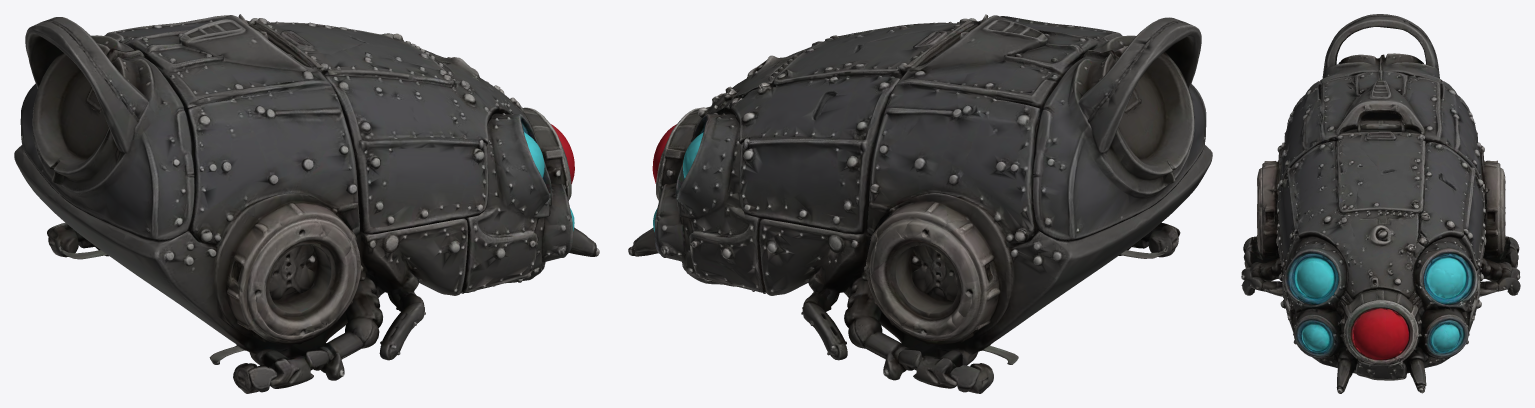
The model's file is head.glb.
3 views of the same model, side by side, from view 1: azimuth 30°, elevation 25°; view 2: azimuth 150°, elevation 25°; view 3: azimuth 270°, elevation 25° (orthographic). The views are drawn at different scales.
Visible parts, largest first — view 1: tripo_node_2e4f6be4-3883-4a1d-8e86-f9c58016d73b; view 2: tripo_node_2e4f6be4-3883-4a1d-8e86-f9c58016d73b; view 3: tripo_node_2e4f6be4-3883-4a1d-8e86-f9c58016d73b.
Part boxes in pixels (<box>): tripo_node_2e4f6be4-3883-4a1d-8e86-f9c58016d73b: <box>14,14,599,393</box>; tripo_node_2e4f6be4-3883-4a1d-8e86-f9c58016d73b: <box>628,14,1212,393</box>; tripo_node_2e4f6be4-3883-4a1d-8e86-f9c58016d73b: <box>1241,14,1520,393</box>.
Bounding box in the file's own units: 0.9806 × 0.5969 × 0.6967.
1 material, 1 textured.
